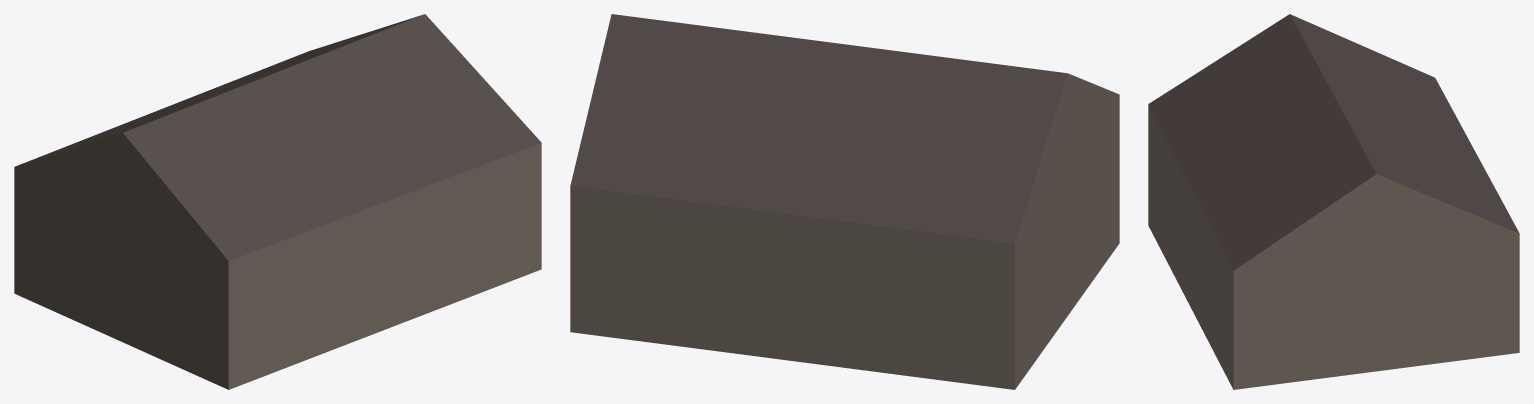
3 renders of one model, left to right at view 1: azimuth 30°, elevation 25°; view 2: azimuth 150°, elevation 25°; view 3: azimuth 270°, elevation 25°, orthographic. The views are drawn at different scales.
Visible parts, largest first — view 1: HP-w756801876; view 2: HP-w756801876; view 3: HP-w756801876.
Part boxes in pixels (<box>): HP-w756801876: <box>14,14,541,389</box>; HP-w756801876: <box>570,14,1119,389</box>; HP-w756801876: <box>1148,14,1519,389</box>.
Bounding box in the file's own units: 20.85 × 9.93 × 16.95.
